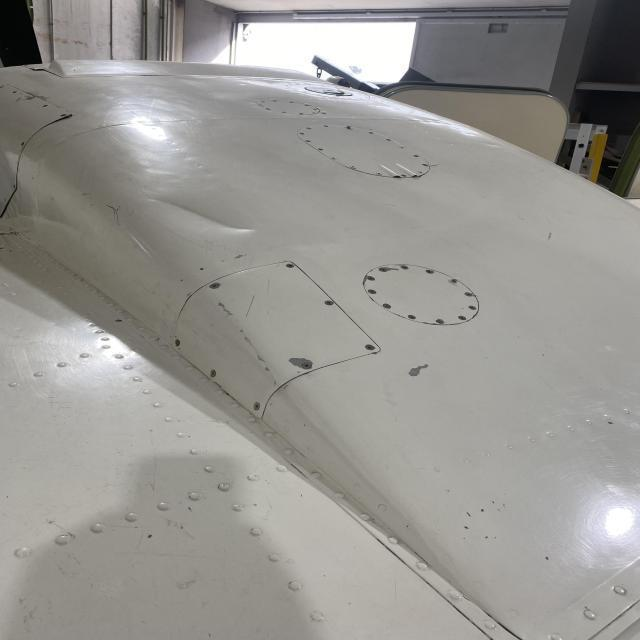dent: (138, 185, 256, 243)
